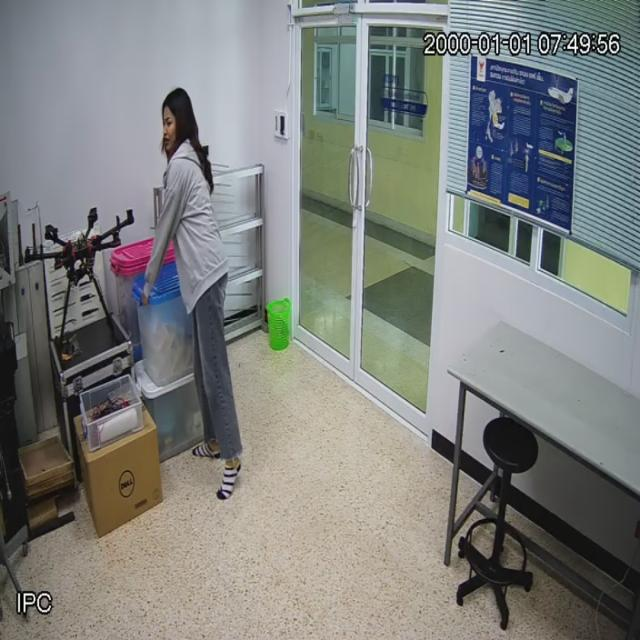normal: (158, 86, 239, 464)
